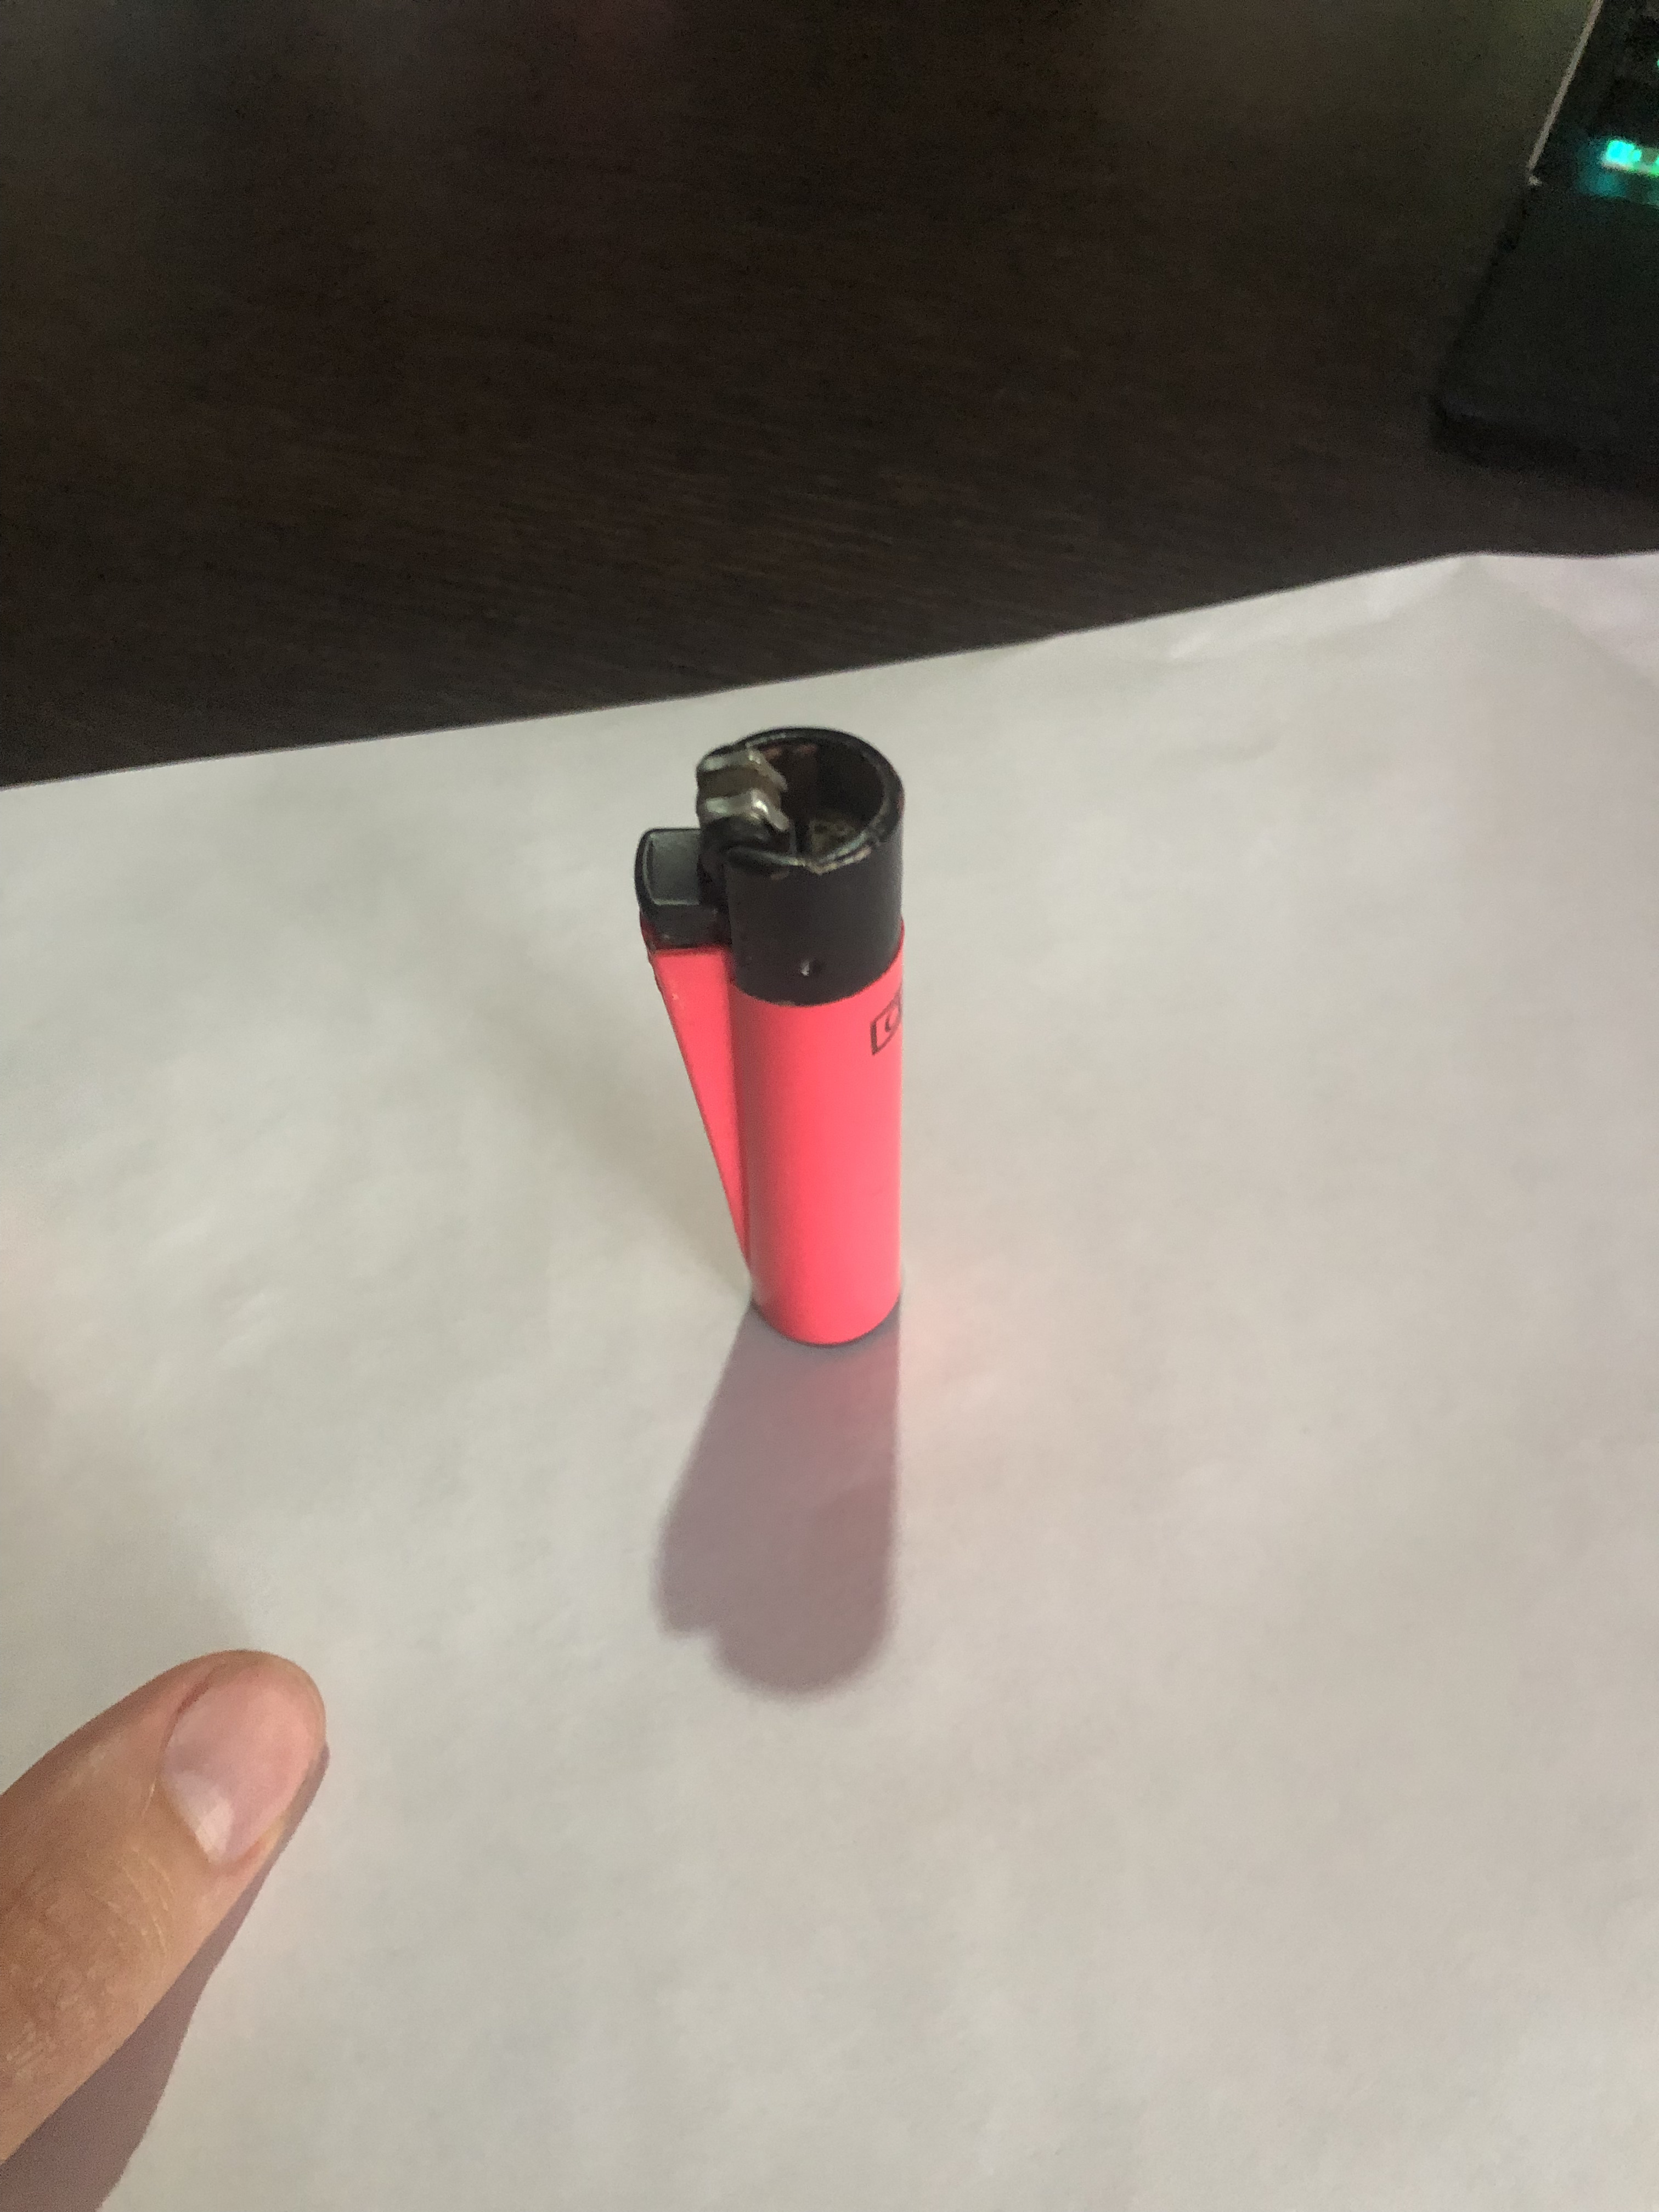Mechero: (626, 704, 938, 1360)
